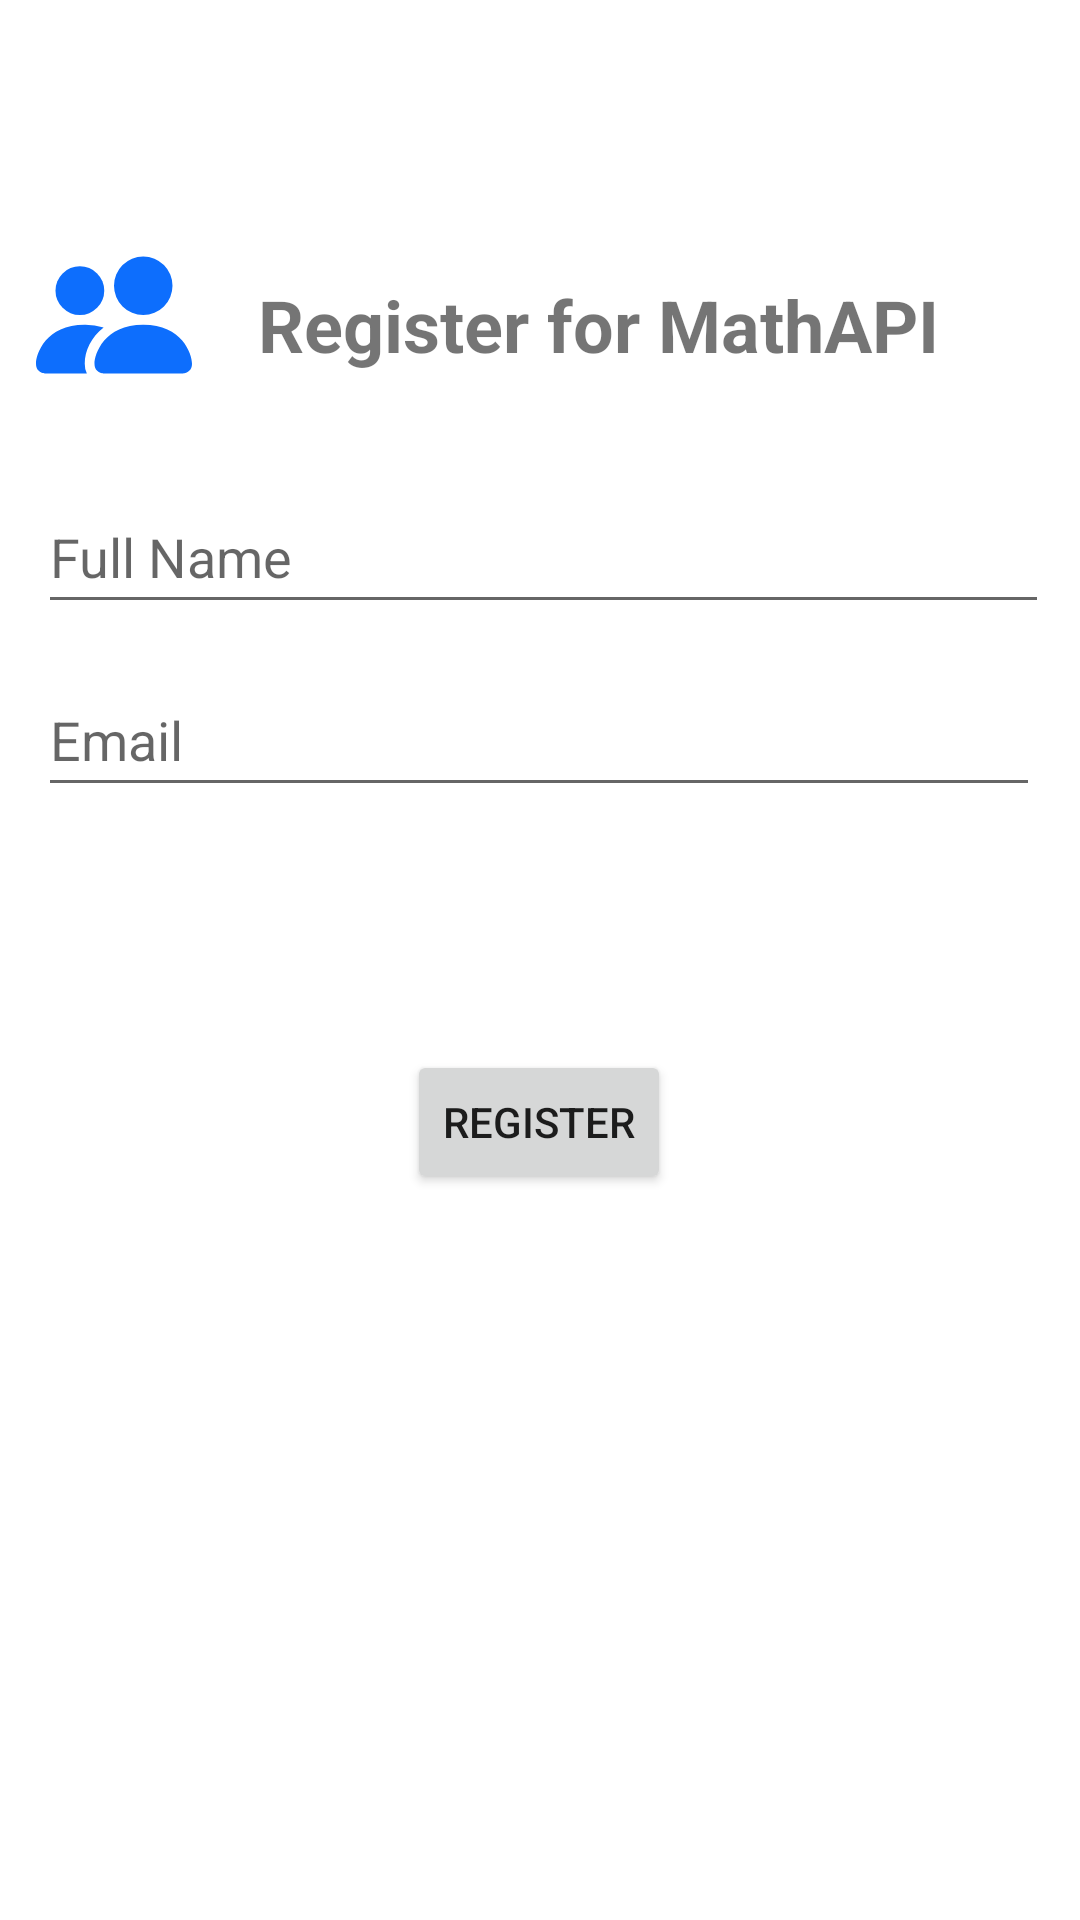

Locate icon controls on the screen. Image size 1080 × 1920, boxes as (x1, y1, x2, y2).
people: (36, 256, 192, 374)
